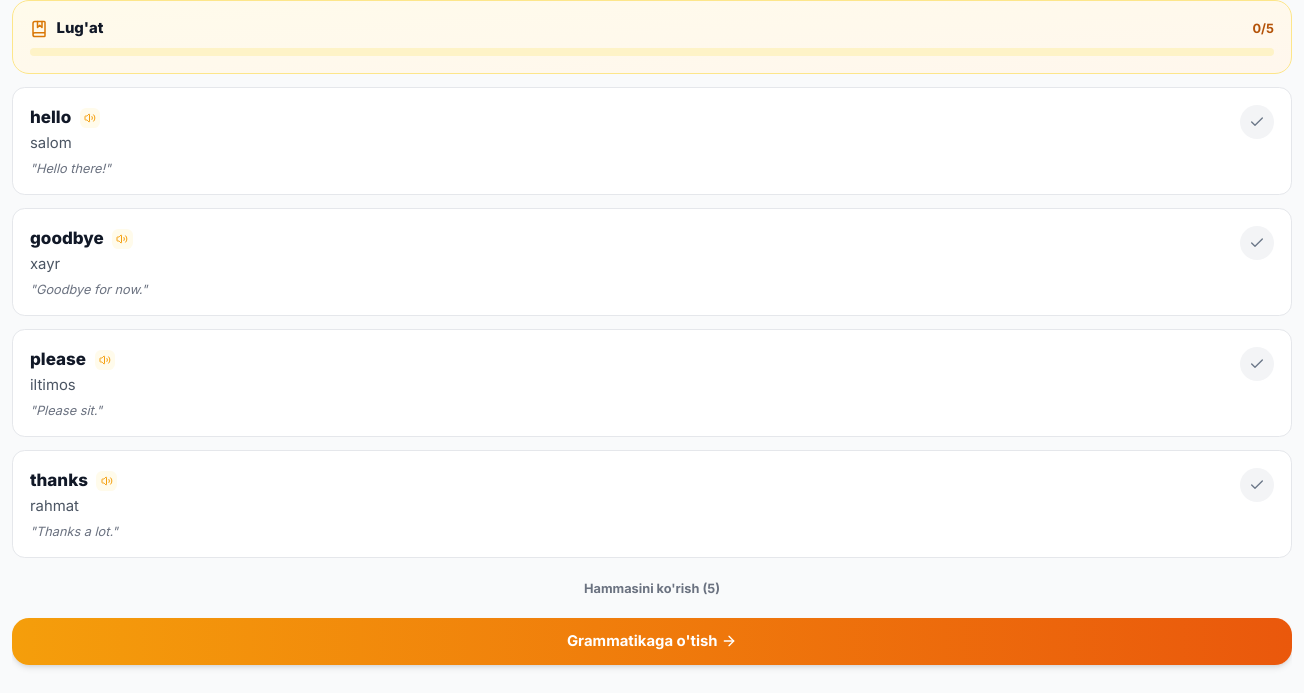
VocabStep › expands all vocab when clicking show all
Click the button "Hammasini ko'rish (5)".
click(652, 588)  # box x1=12 y1=571 x2=1292 y2=605
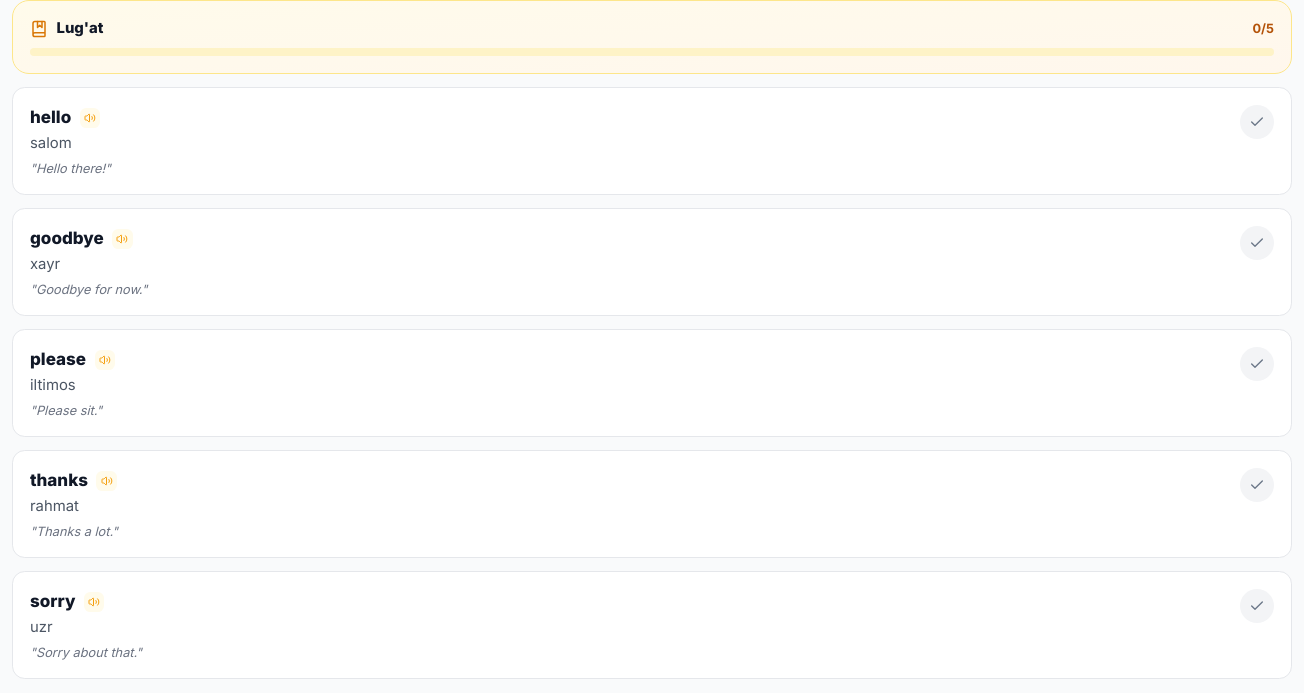
Now the text "sorry" is shown, box x1=30 y1=589 x2=75 y2=614
